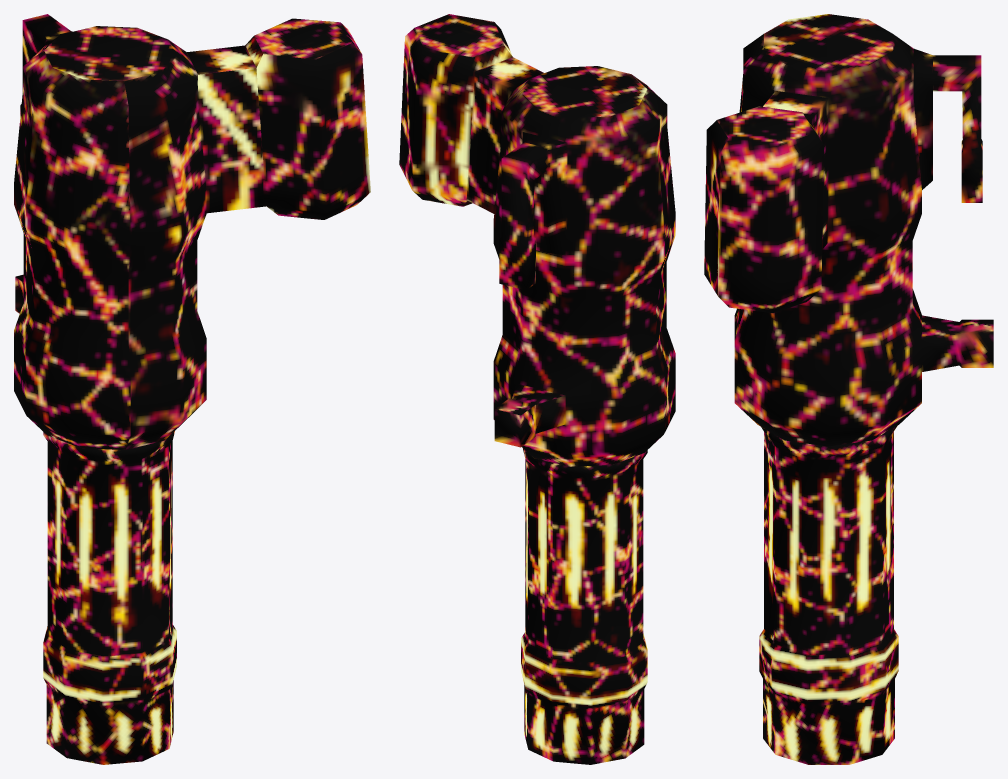
File: godGunPickup.fbx
3 views of the same model, side by side, from view 1: azimuth 30°, elevation 25°; view 2: azimuth 150°, elevation 25°; view 3: azimuth 270°, elevation 25° (orthographic). The views are drawn at different scales.
Visible parts, largest first — view 1: Minigun, Cylinder; view 2: Minigun, Cylinder; view 3: Minigun, Cylinder.
Boxes of the visible parts, x1,y1,x2,y2 form: Minigun: [14, 14, 370, 449]; Cylinder: [43, 431, 176, 764]; Minigun: [399, 14, 675, 466]; Cylinder: [521, 448, 647, 764]; Minigun: [704, 14, 993, 446]; Cylinder: [759, 426, 898, 764].
Bounding box in the file's own units: 1.03 × 2.21 × 0.833.
